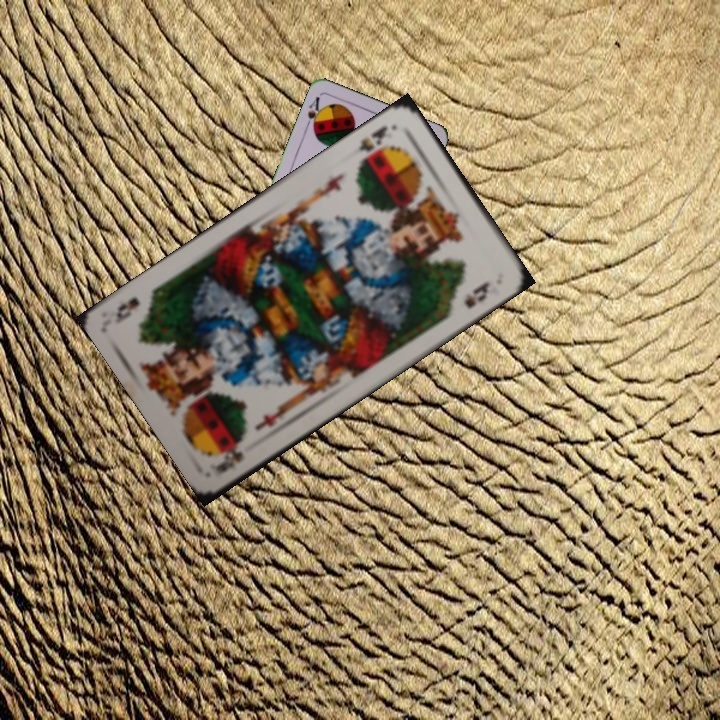SA: (302, 92, 326, 134)
SK: (354, 120, 399, 166), (212, 441, 246, 477)
